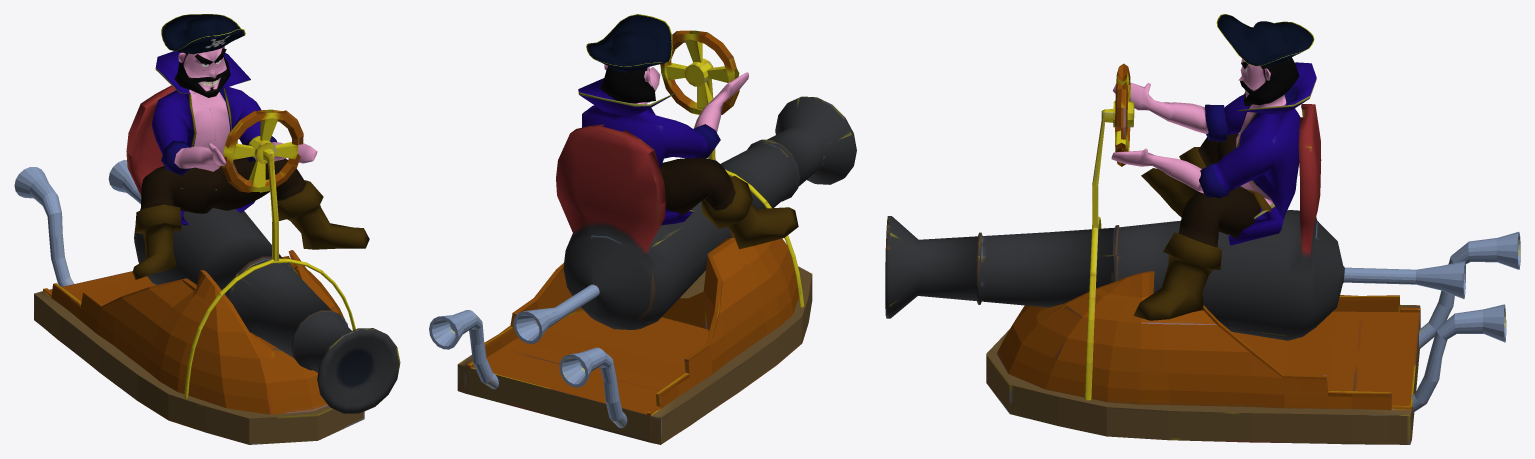
Rendered from pirataGiroDER_000294.obj.
3 renders of one model, left to right at view 1: azimuth 30°, elevation 25°; view 2: azimuth 150°, elevation 25°; view 3: azimuth 270°, elevation 25°, orthographic. The views are drawn at different scales.
Visible parts, largest first — view 1: carro_pirata, Pirata_PirataH; view 2: carro_pirata, Pirata_PirataH; view 3: carro_pirata, Pirata_PirataH.
Part boxes in pixels (bbox=[...]): carro_pirata: bbox=[14, 85, 400, 444]; Pirata_PirataH: bbox=[132, 14, 369, 279]; carro_pirata: bbox=[429, 30, 856, 444]; Pirata_PirataH: bbox=[578, 14, 798, 249]; carro_pirata: bbox=[885, 63, 1520, 444]; Pirata_PirataH: bbox=[1111, 14, 1316, 320].
Bounding box in the file's own units: 5.65 × 7.69 × 12.1.
Materials: 2 (2 with a texture image).
